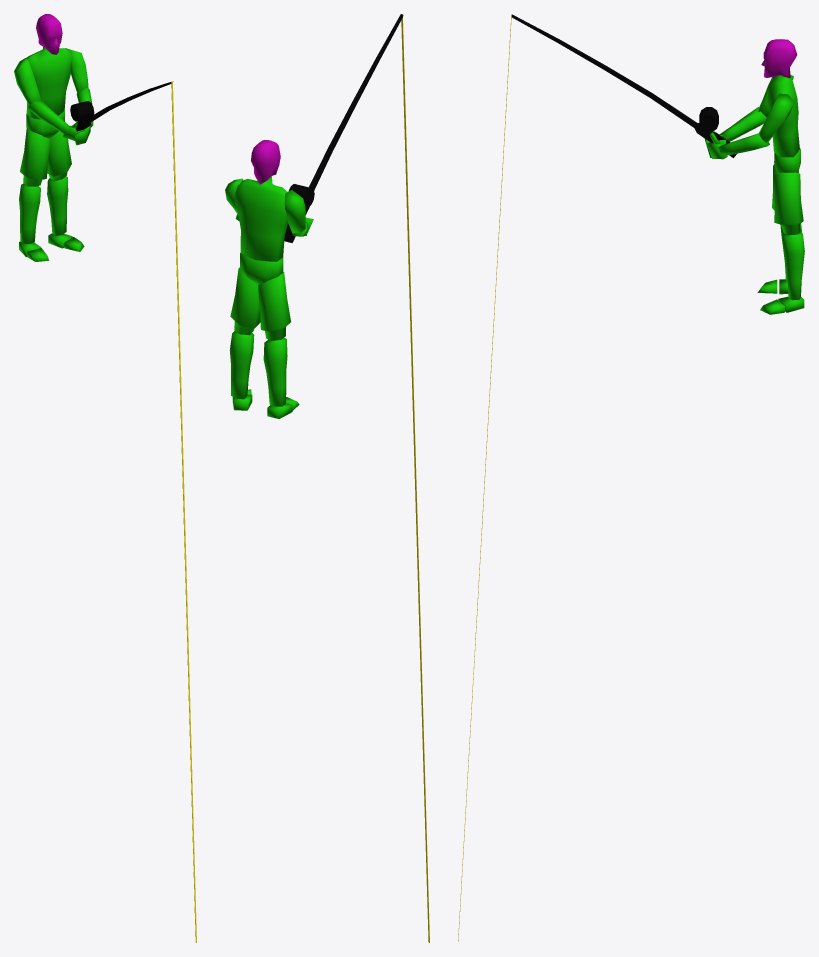
Rendered from FishingCharacter.FBX.
3 views of the same model, side by side, from view 1: azimuth 30°, elevation 25°; view 2: azimuth 150°, elevation 25°; view 3: azimuth 270°, elevation 25° (orthographic). The views are drawn at different scales.
Parts seen in each view (by area): view 1: Body, fishingline, FishingPole, Head; view 2: Body, fishingline, FishingPole, Head; view 3: Body, FishingPole, Head, fishingline.
Part boxes in pixels (x1=…): Body: x1=14, y1=46, x2=93, y2=261; fishingline: x1=171, y1=81, x2=196, y2=942; FishingPole: x1=70, y1=81, x2=173, y2=131; Head: x1=36, y1=14, x2=62, y2=54; Body: x1=225, y1=176, x2=313, y2=418; fishingline: x1=401, y1=14, x2=429, y2=942; FishingPole: x1=284, y1=14, x2=403, y2=242; Head: x1=251, y1=140, x2=280, y2=184; Body: x1=705, y1=74, x2=804, y2=314; FishingPole: x1=511, y1=14, x2=736, y2=157; Head: x1=761, y1=39, x2=797, y2=78; fishingline: x1=458, y1=15, x2=511, y2=941.
Bounding box in the file's own units: 0.5777 × 6.95 × 2.35.
